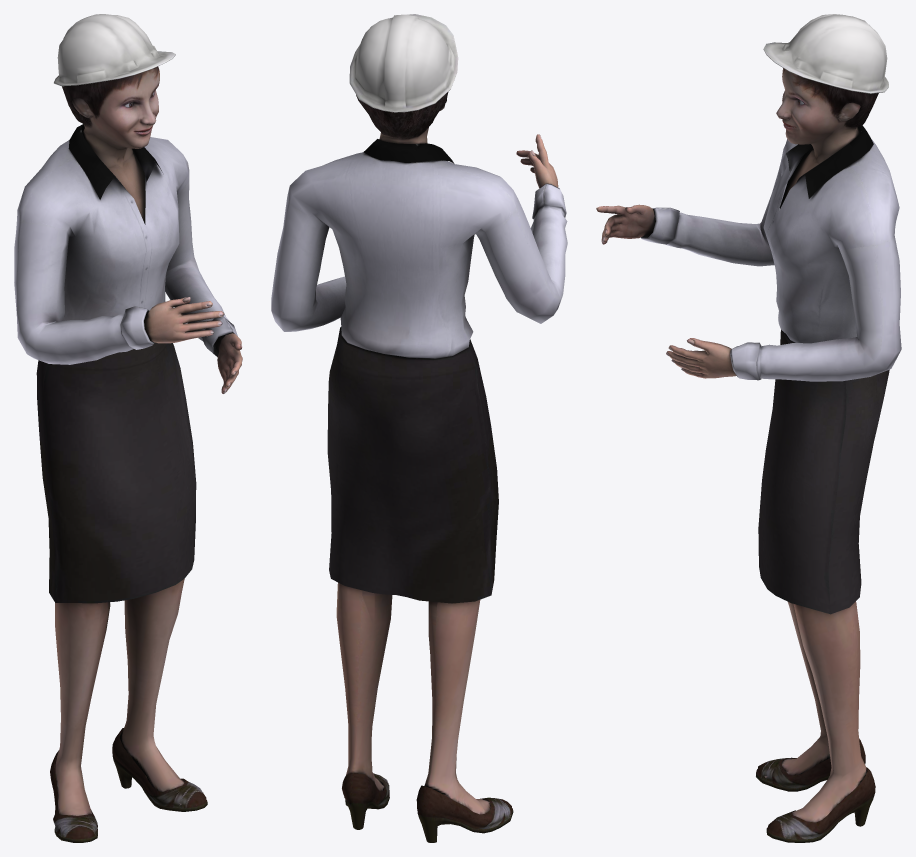
File: SWRK01_07_01.FBX
The picture shows the model from 3 angles, left to right: view 1: azimuth 30°, elevation 25°; view 2: azimuth 150°, elevation 25°; view 3: azimuth 270°, elevation 25°; orthographic projection. The views are drawn at different scales.
Parts seen in each view (by area): view 1: SWRK01_07_01; view 2: SWRK01_07_01; view 3: SWRK01_07_01.
Part boxes in pixels (left/top/right/bottom): SWRK01_07_01: left=14, top=14, right=242, bottom=842; SWRK01_07_01: left=271, top=14, right=567, bottom=842; SWRK01_07_01: left=596, top=14, right=901, bottom=842.
Size of the model in its own units: 20.55 by 68.91 by 24.1.
